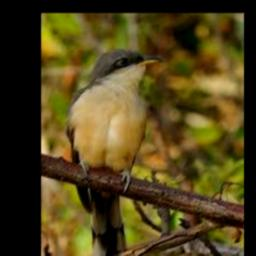Cuckoo: (64, 50, 163, 256)
